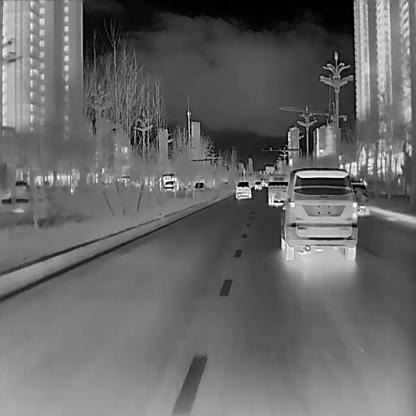car: (280, 167, 358, 260), (351, 180, 370, 216), (267, 173, 289, 204), (234, 180, 252, 199), (163, 180, 176, 192), (192, 181, 205, 190), (253, 180, 262, 190)
